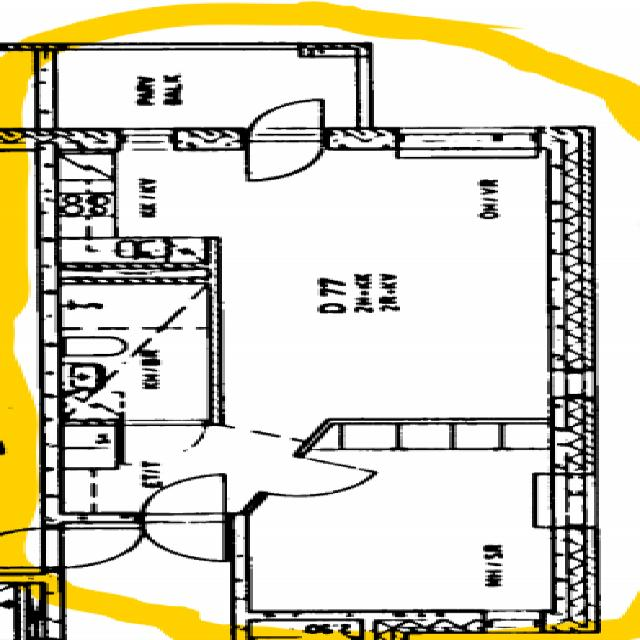door: (258, 457, 376, 510), (248, 126, 325, 186), (248, 90, 325, 150), (140, 514, 224, 563), (140, 475, 224, 523), (125, 421, 204, 463)
